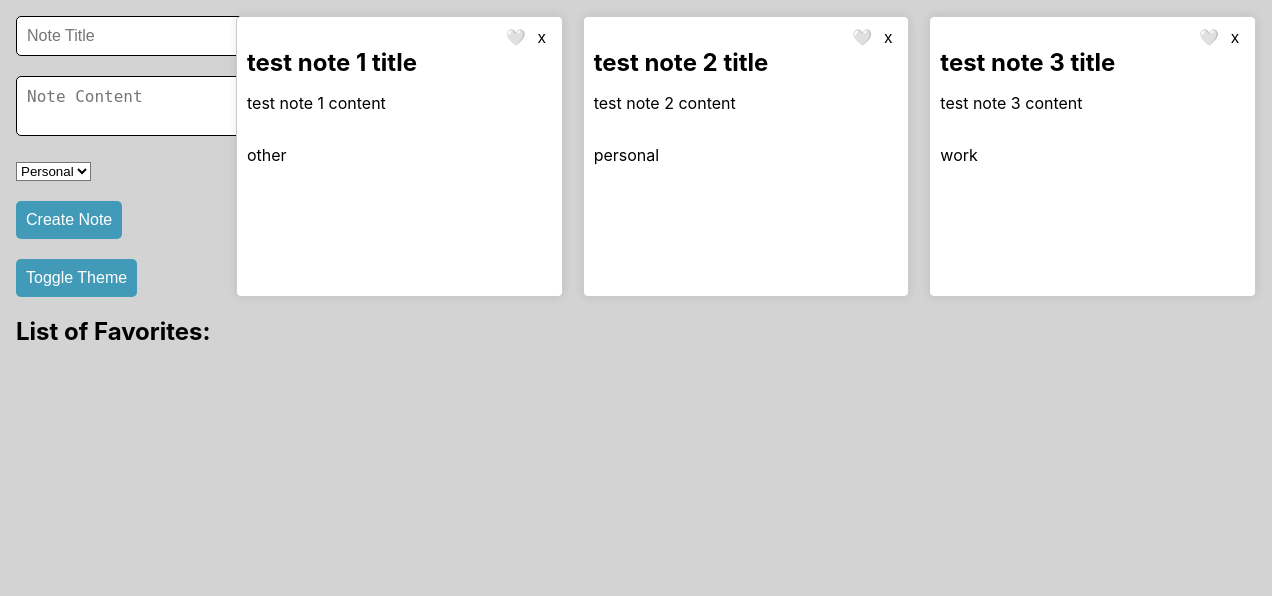
Test case: delete notes › add then delete then add note
Type "HELLO BOB" into the field with placeholder "Note Title" at (130, 36), box [16,16,245,56]
Type "IM JOE" into the text box with placeholder "Note Content" at (134, 106), box [16,76,253,136]
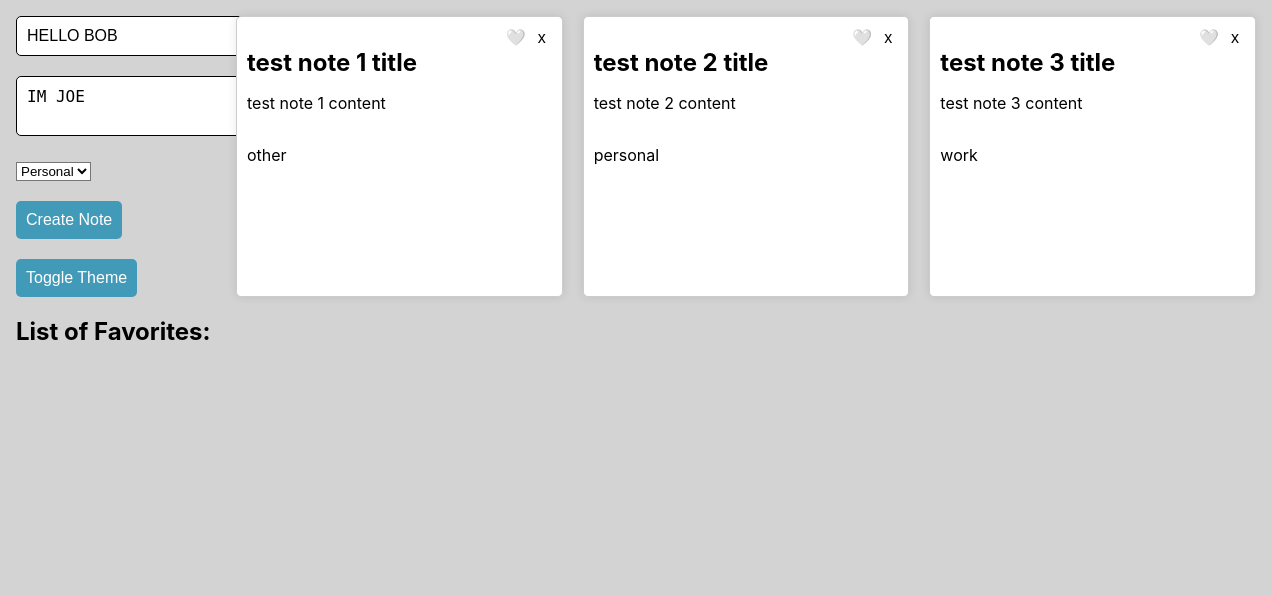
Click the button "Create Note" at (69, 220), box [16,201,122,239]
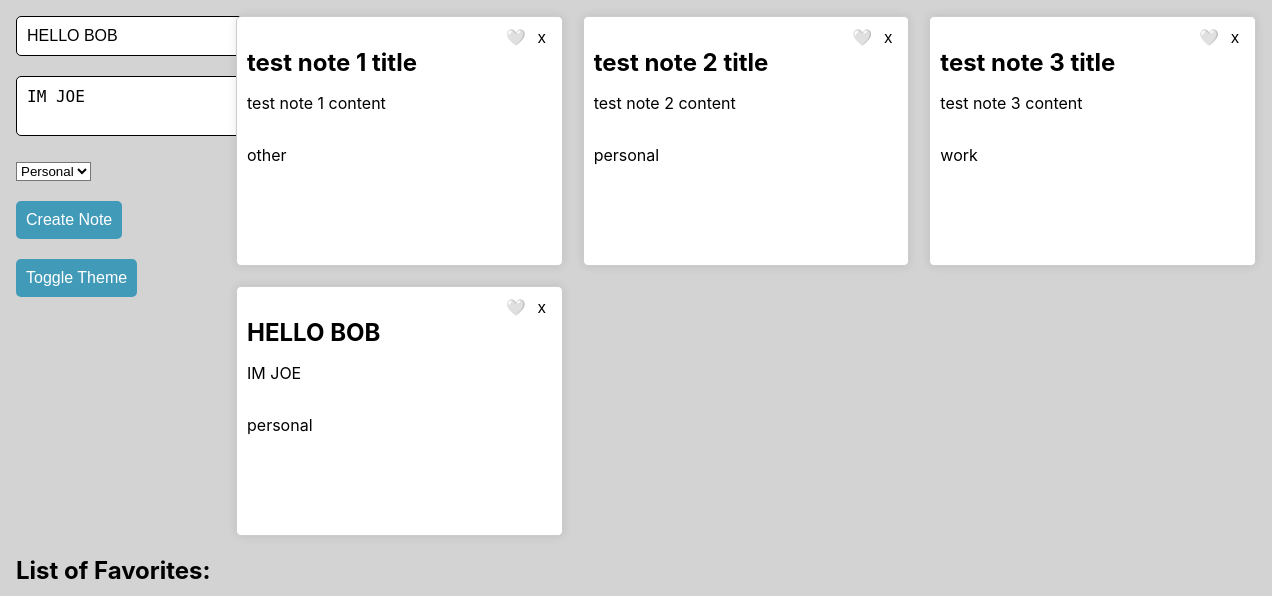
expect the heading "HELLO BOB" is shown: met, box [247,318,380,347]
expect the text box "IM JOE" is shown: met, box [247,363,301,383]
Click the 4th button "x" at (542, 308), box [532,297,552,318]
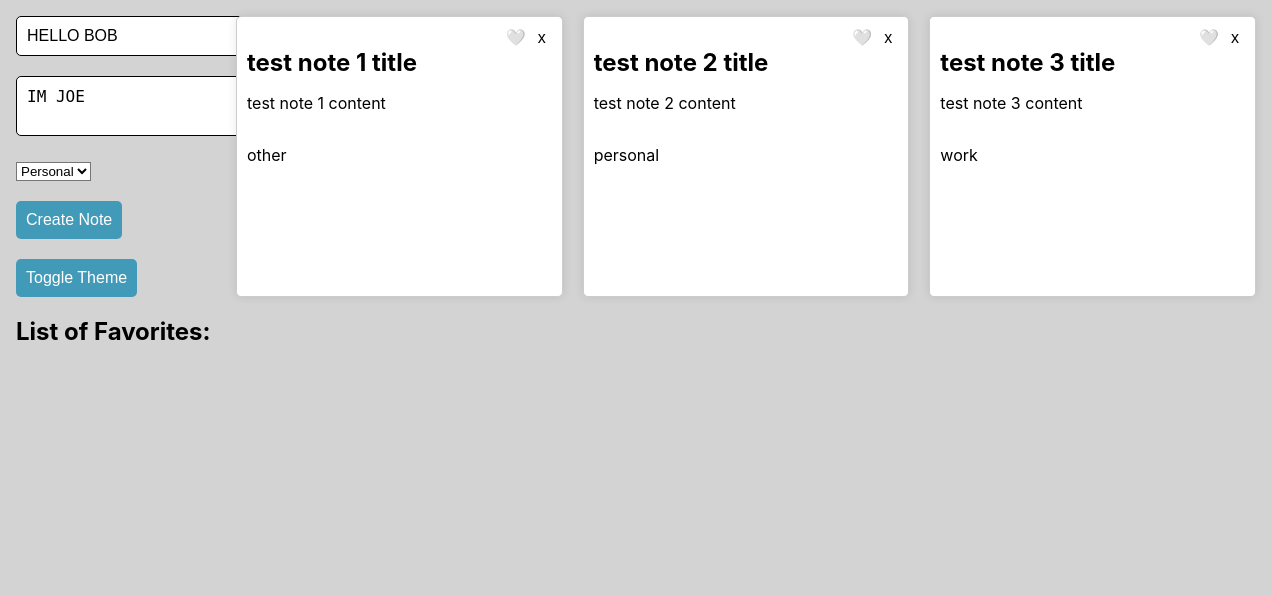
Replace the text in the field with placeholder "Note Title" with "WHATS UP BOB" at (130, 36), box [16,16,245,56]
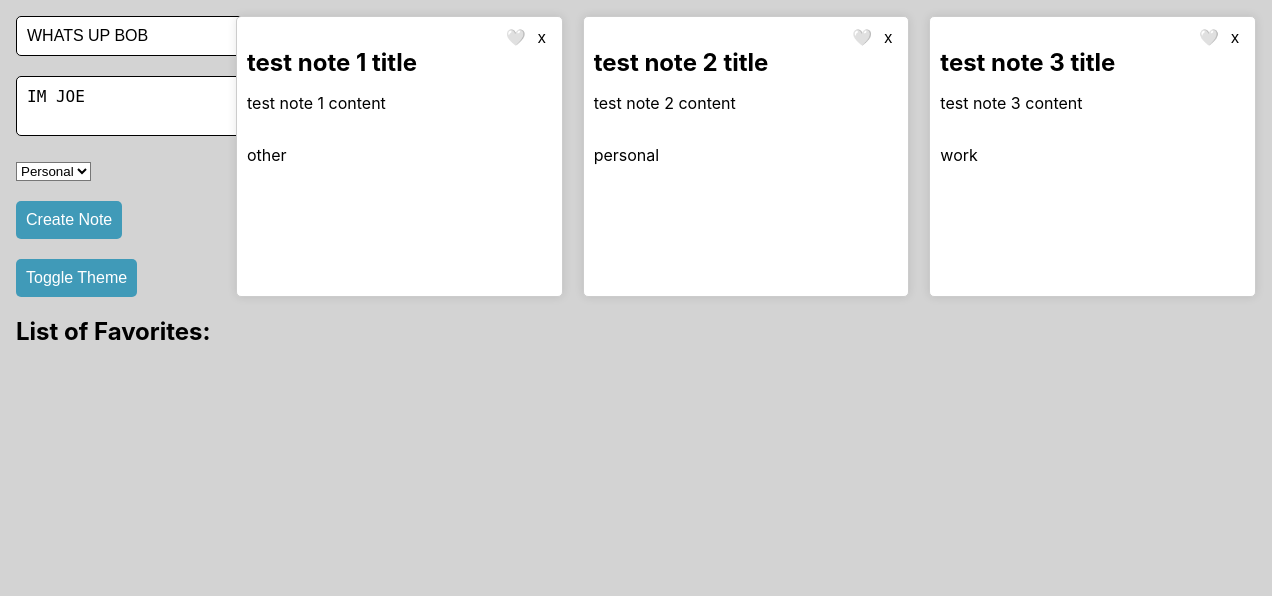
Replace the text in the text box with placeholder "Note Content" with "WHATS UP JOE" at (134, 106), box [16,76,253,136]
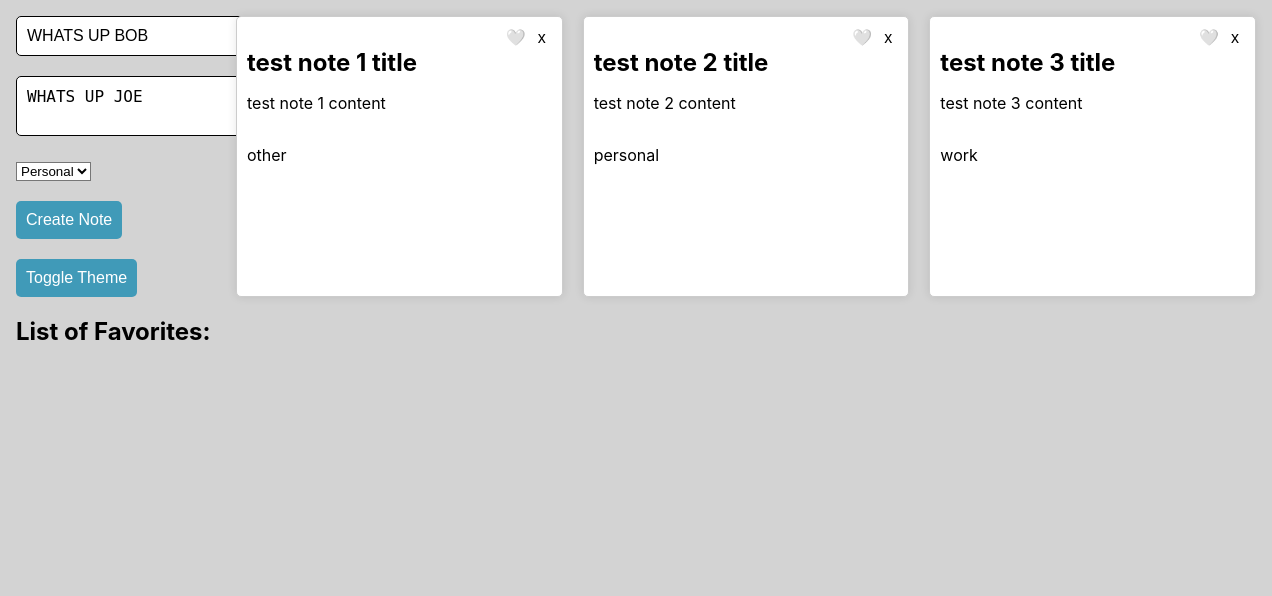
Click the button "Create Note" at (69, 220), box [16,201,122,239]
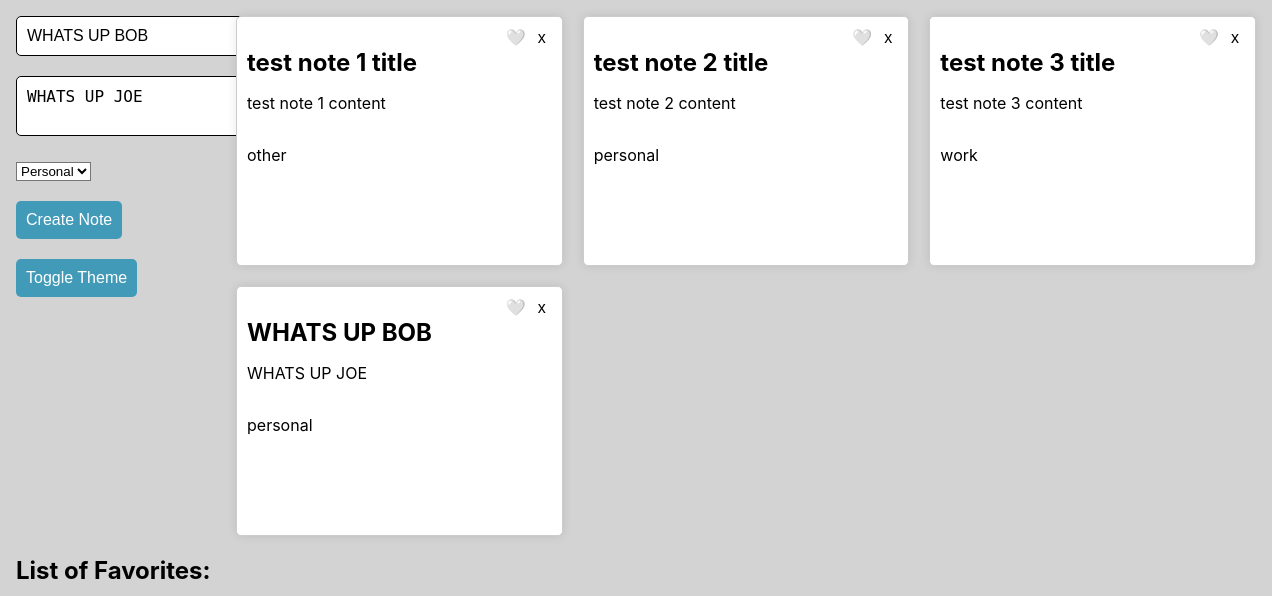
expect the heading "WHATS UP BOB" is shown: met, box [247,318,432,347]
expect the text box "WHATS UP JOE" is shown: met, box [247,363,367,383]
